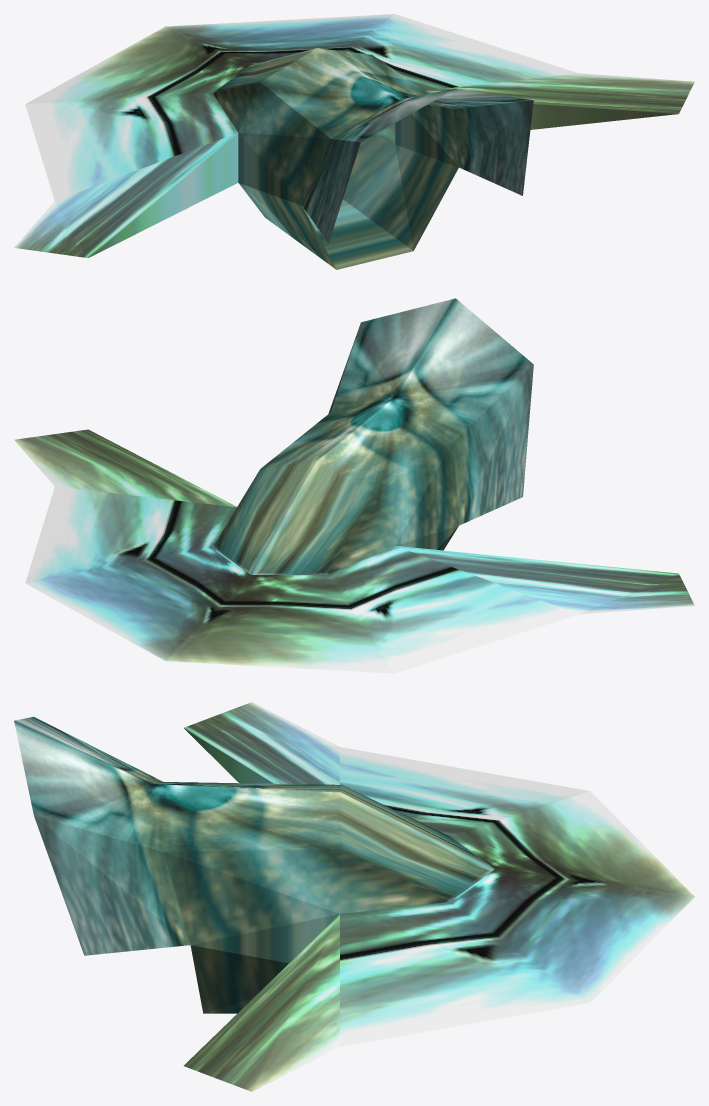
Rendered from twinblade102_4.obj.
The picture shows the model from 3 angles, top to bottom: view 1: azimuth 30°, elevation 25°; view 2: azimuth 150°, elevation 25°; view 3: azimuth 270°, elevation 25°; orthographic projection. The views are drawn at different scales.
Parts seen in each view (by area): view 1: MDL_cwdhkn02_4r; view 2: MDL_cwdhkn02_4r; view 3: MDL_cwdhkn02_4r.
Boxes of the visible parts, x1,y1,x2,y2 form: MDL_cwdhkn02_4r: [14, 14, 694, 269]; MDL_cwdhkn02_4r: [14, 298, 694, 673]; MDL_cwdhkn02_4r: [14, 702, 694, 1091].
Bounding box in the file's own units: 0.64 × 0.2074 × 0.4725.
